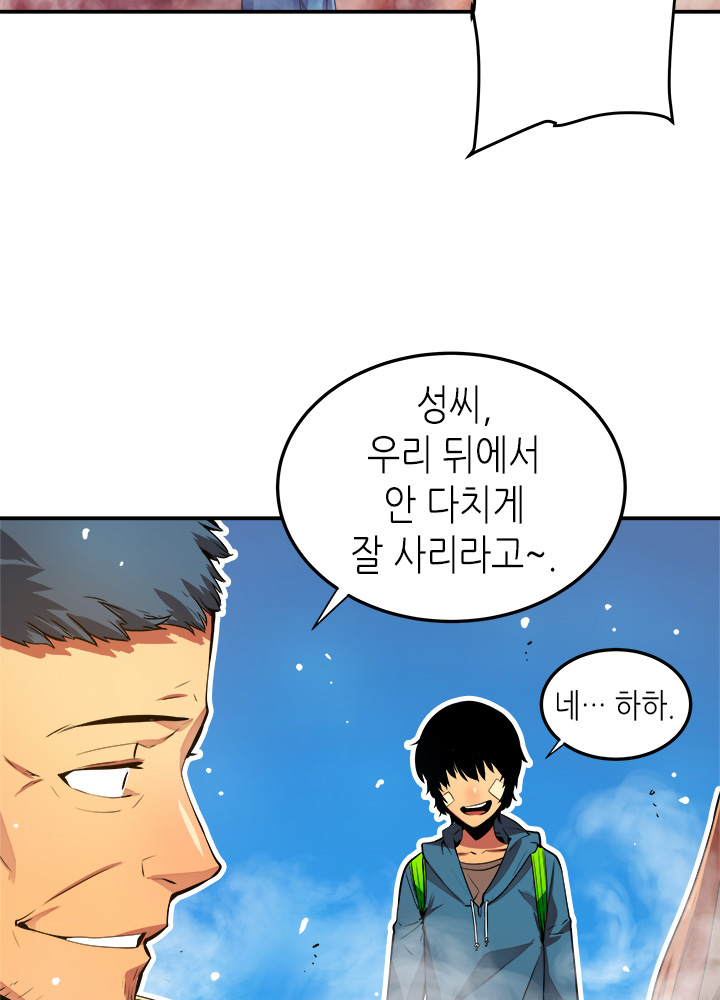dialog box: (250, 330, 653, 643), (438, 1, 699, 173), (518, 635, 702, 773)
text: (312, 362, 573, 599), (549, 662, 684, 739)
